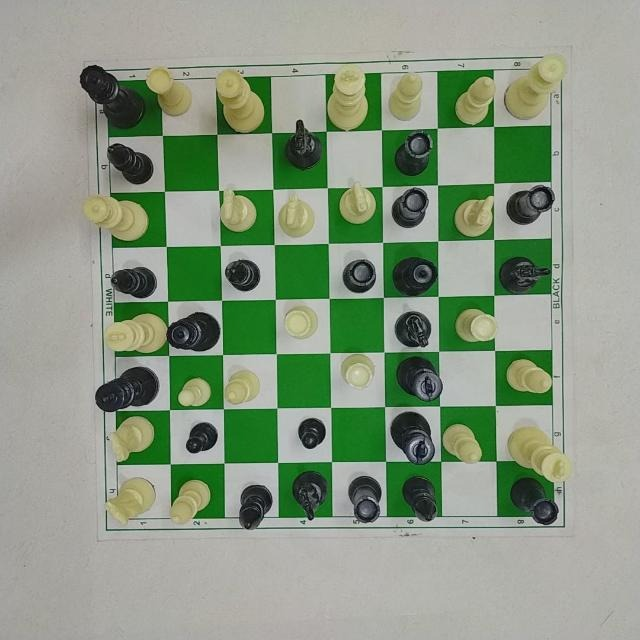black-bishop: (105, 142, 154, 185), (401, 475, 439, 523), (237, 483, 274, 531), (109, 265, 158, 299), (224, 257, 262, 292)
black-king: (94, 366, 159, 411), (389, 411, 435, 465), (395, 355, 444, 402)
black-knight: (497, 255, 551, 294), (290, 470, 329, 522), (284, 119, 323, 171), (393, 310, 432, 348)
black-pawn: (184, 421, 219, 455), (296, 416, 327, 450)
black-queen: (77, 63, 146, 128), (164, 311, 222, 353), (391, 255, 439, 297)
black-rook: (504, 183, 556, 227), (510, 481, 560, 525), (394, 129, 434, 177), (346, 475, 382, 525), (390, 186, 430, 229), (340, 257, 377, 294)
white-bishop: (454, 75, 496, 125), (168, 478, 212, 525), (386, 70, 423, 122), (504, 357, 553, 394), (442, 422, 484, 465), (222, 369, 261, 405)
white-king: (507, 425, 573, 483), (326, 62, 370, 131), (103, 312, 159, 354)
white-knight: (103, 476, 157, 528), (109, 414, 155, 463), (452, 194, 495, 238), (276, 193, 315, 239), (218, 187, 257, 233), (338, 181, 378, 225)
white-pawn: (176, 376, 212, 408)
white-queen: (504, 52, 570, 120), (80, 193, 151, 243), (214, 67, 266, 133)
white-rook: (146, 65, 194, 117), (453, 307, 499, 343), (339, 352, 376, 390), (282, 304, 319, 340)
